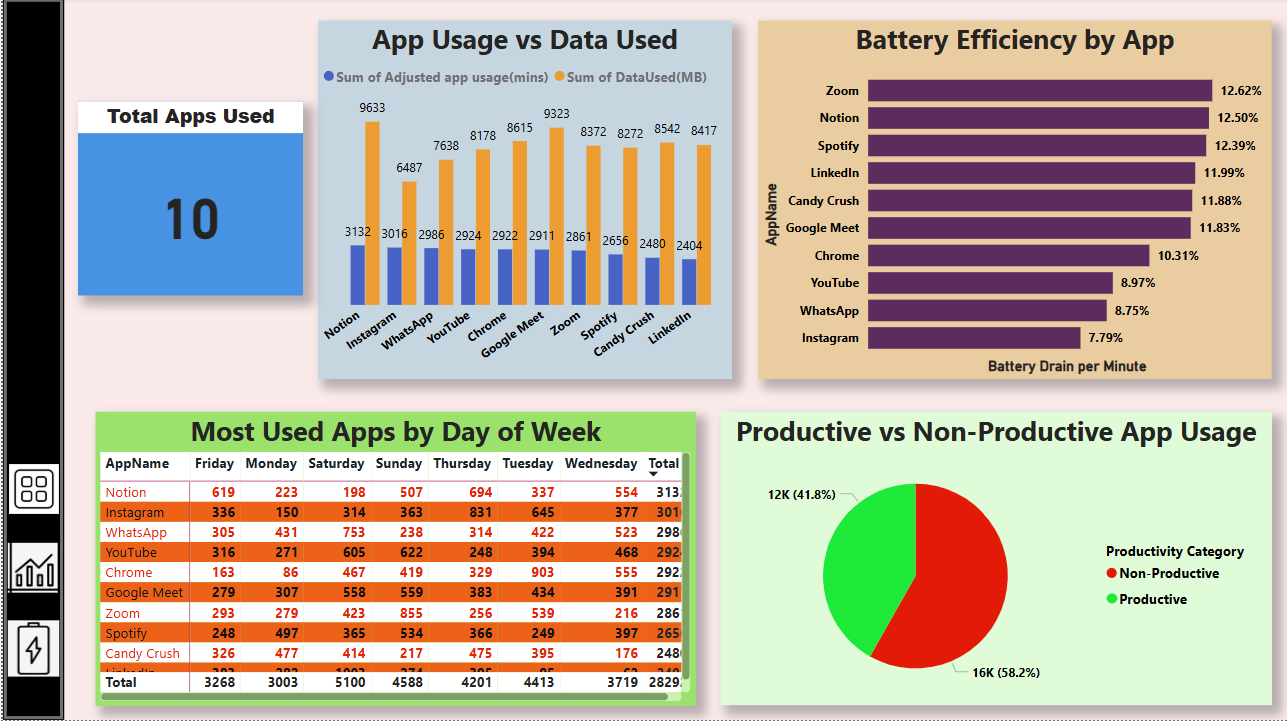

What the dashboard file says about the page in this screenshot:
{"tool":"powerbi","page":{"name":"App Usage Deep Dive","canvas":[1280,720],"ordinal":1},"visuals":[{"type":"clusteredColumnChart","title":"App Usage vs Data Used","fields":{"Category":["Mobile_Usage_Tracker.AppName"],"Y":["Sum(Mobile_Usage_Tracker.Adjusted app usage(mins))","Sum(Mobile_Usage_Tracker.DataUsed(MB))"]},"box":[313.5,22.4,411.8,357],"z":0},{"type":"image","box":[0,459,59.7,59.7],"z":0},{"type":"barChart","title":"Battery Efficiency by App ","fields":{"Category":["Mobile_Usage_Tracker.AppName"],"Y":["Mobile_Usage_Tracker.Battery Drain per Minute"]},"box":[751.4,22.4,511.3,357],"z":1000},{"type":"image","box":[0,537.4,59.7,59.7],"z":1000},{"type":"actionButton","box":[0,0,61,719],"z":2000},{"type":"pieChart","title":"Productive vs Non-Productive App Usage","fields":{"Category":["Mobile_Usage_Tracker.Productivity Category"],"Y":["Sum(Mobile_Usage_Tracker.Adjusted app usage(mins))"]},"box":[714,411.8,548.6,292.3],"z":3000},{"type":"pivotTable","title":"Most Used Apps by Day of Week","fields":{"Rows":["Mobile_Usage_Tracker.AppName"],"Columns":["Mobile_Usage_Tracker.DayOfWeek"],"Values":["Sum(Mobile_Usage_Tracker.Adjusted app usage(mins))"]},"box":[92.3,411.2,597.3,292.9],"z":4000},{"type":"card","title":"Total Apps Used","fields":{"Values":["Mobile_Usage_Tracker.Total Apps"]},"box":[74.2,103,224.2,192.4],"z":5000},{"type":"image","box":[1.2,459,59.7,59.7],"z":5001,"group":"g1"},{"type":"image","box":[0,537.4,59.7,59.7],"z":5002,"group":"g1"},{"type":"image","box":[0,614.5,61,65.9],"z":5003,"group":"g1"},{"type":"group","id":"g1","title":"Group 1","box":[0,459,61,221.4],"z":5004}]}

Visuals, with their boxes on the page's 1280x720 design canvas (x1, y1, x2, y2). These are canvas units, not pixel positions in the 1287x721 screenshot, which may show the page scaled, cropped or inside an application window:
"App Usage vs Data Used" clusteredColumnChart: locate(314, 22, 725, 379)
image: locate(0, 459, 60, 519)
"Battery Efficiency by App " barChart: locate(751, 22, 1263, 379)
image: locate(0, 537, 60, 597)
actionButton: locate(0, 0, 61, 719)
"Productive vs Non-Productive App Usage" pieChart: locate(714, 412, 1263, 704)
"Most Used Apps by Day of Week" pivotTable: locate(92, 411, 690, 704)
"Total Apps Used" card: locate(74, 103, 298, 295)
image: locate(1, 459, 61, 519)
image: locate(0, 537, 60, 597)
image: locate(0, 614, 61, 680)
"Group 1" group: locate(0, 459, 61, 680)
